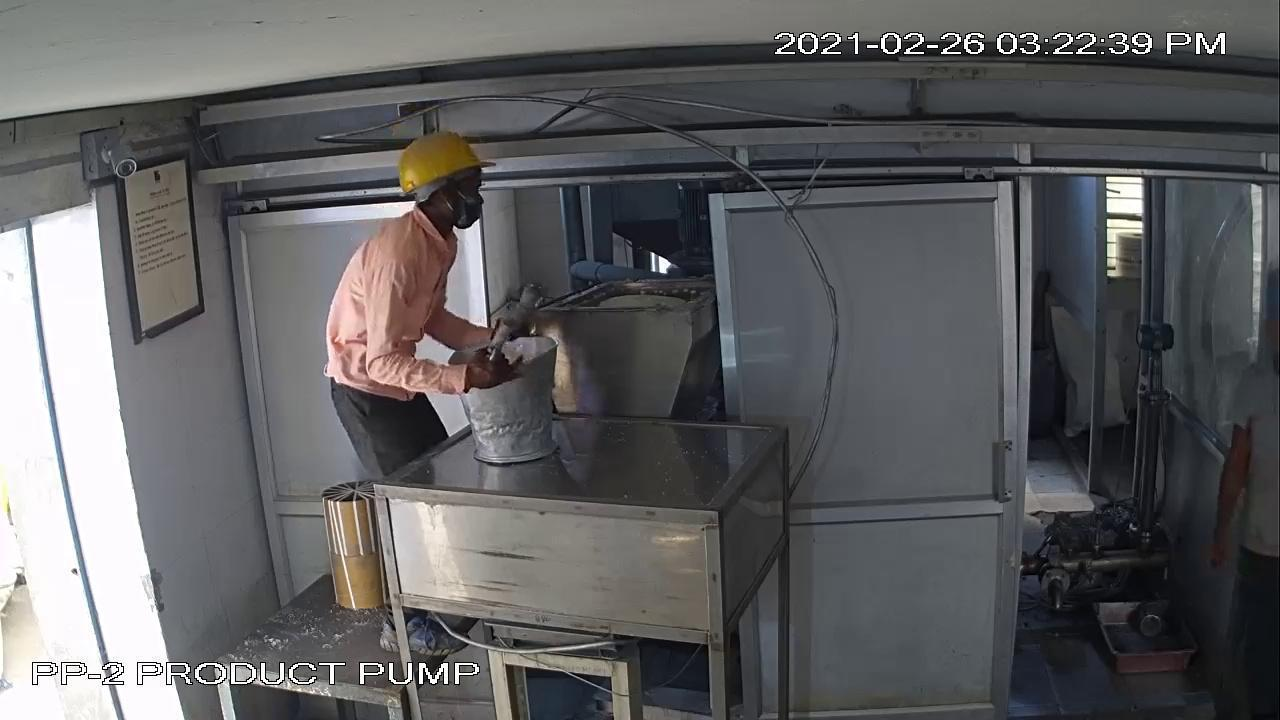helmet: (392, 117, 499, 201)
